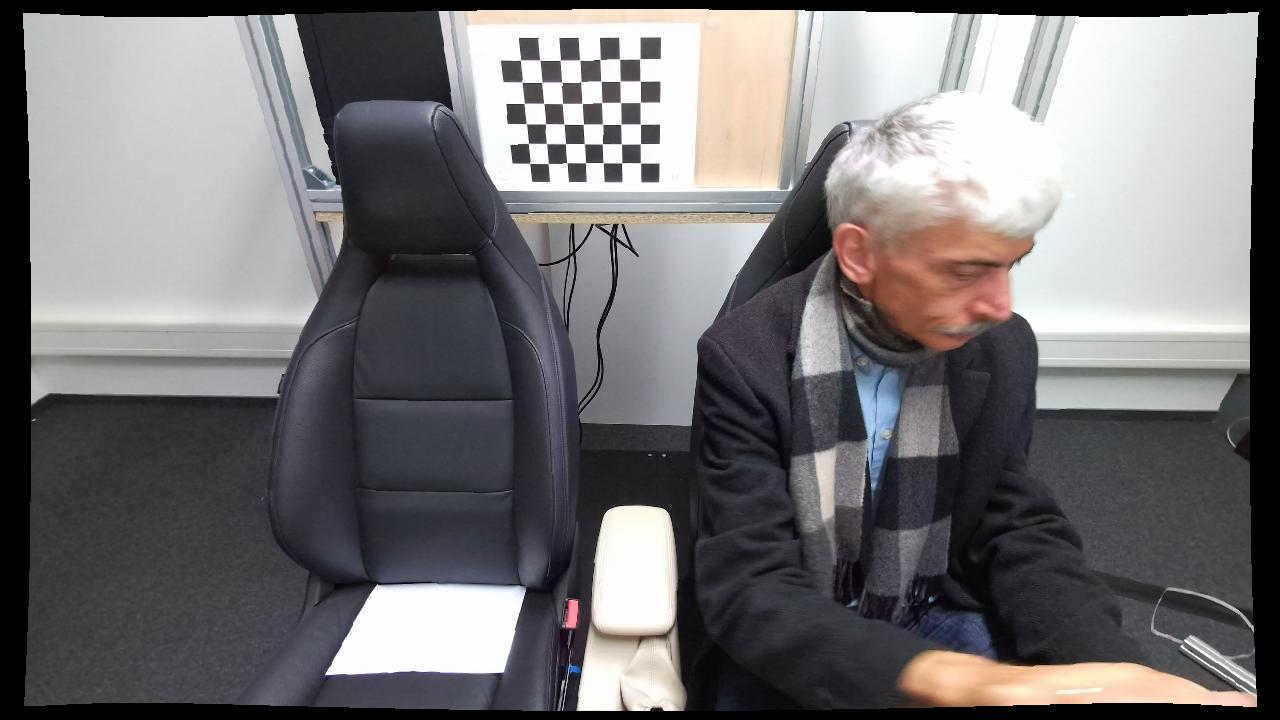Distracted: (689, 81, 1089, 707)
